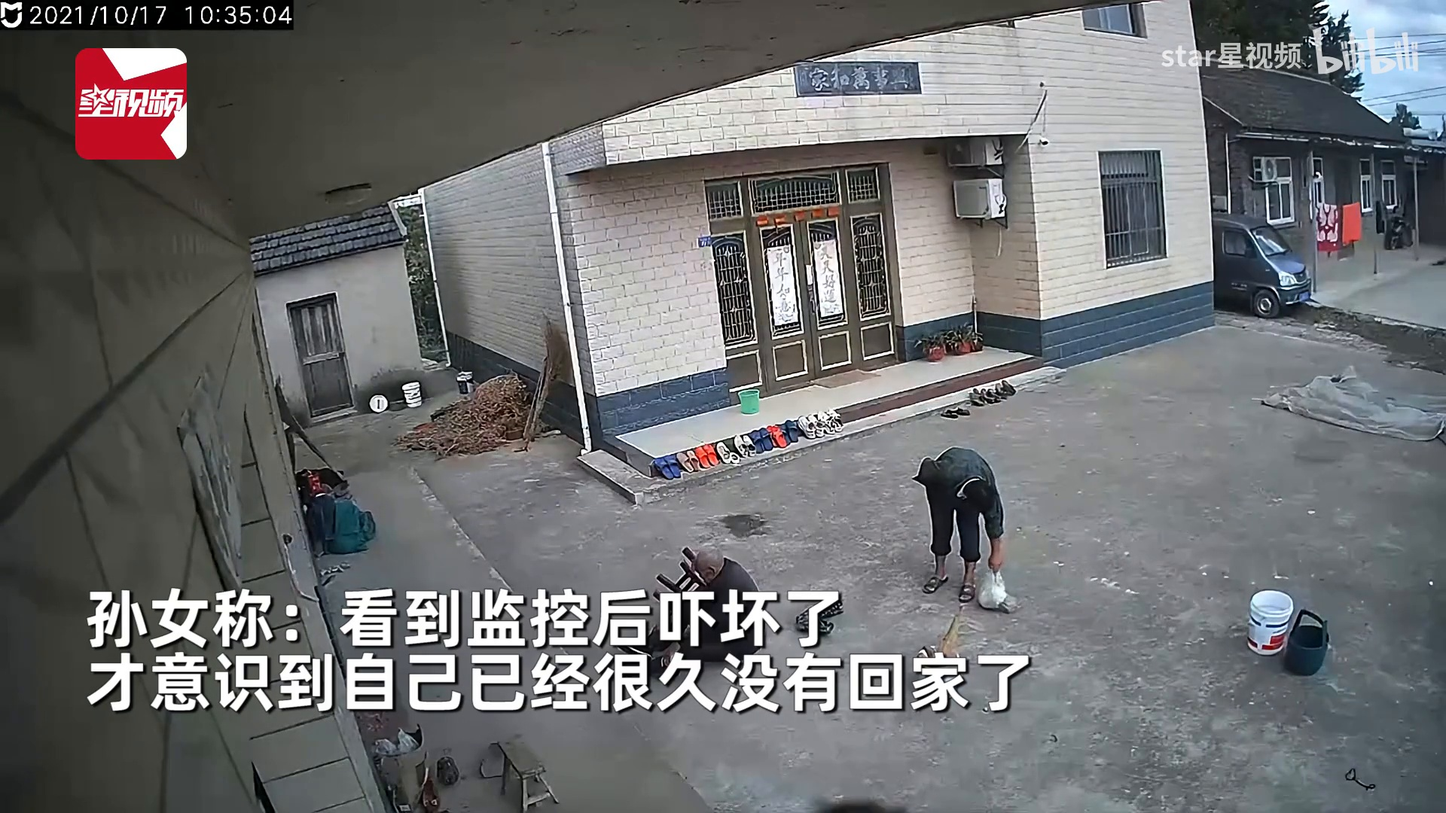bend: (912, 445, 1015, 611)
half_up: (620, 542, 766, 672)
